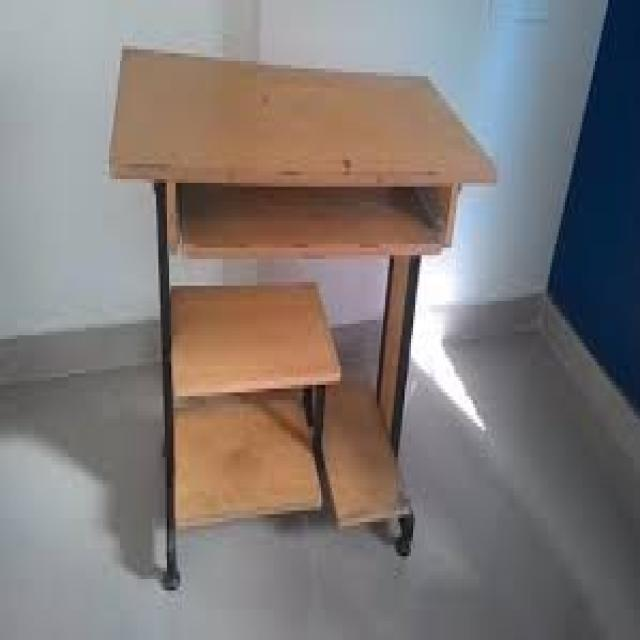TABLE: (111, 46, 492, 587)
